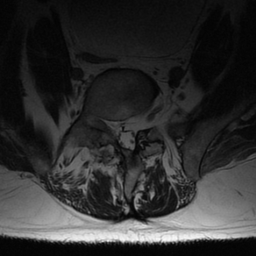CCS_normal: (119, 111, 128, 154)
LFS_normal: (138, 102, 149, 134)
LLS_normal: (128, 111, 138, 151)
RFS_normal: (100, 110, 111, 142)
RLS_normal: (111, 112, 119, 146)
